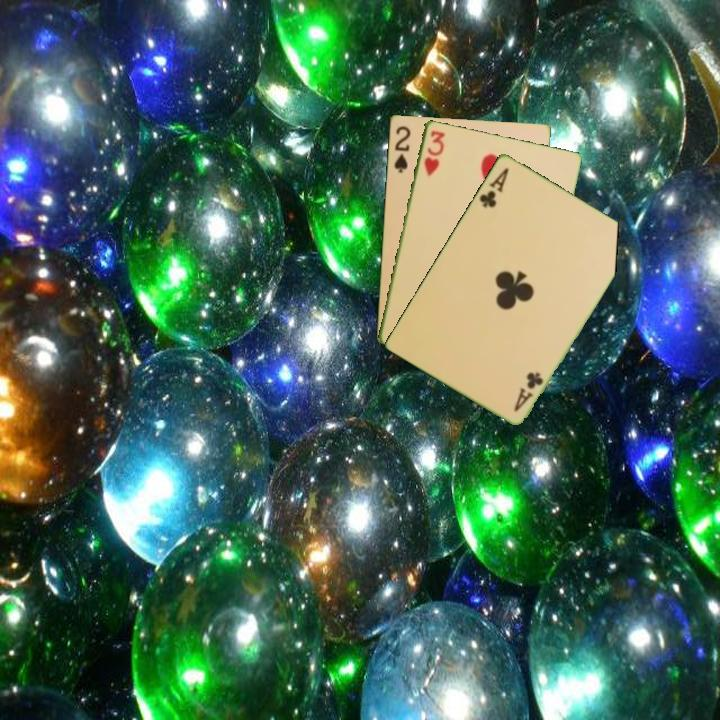2s: (390, 122, 413, 175)
3h: (420, 126, 447, 179)
Ac: (475, 163, 511, 210), (510, 368, 546, 414)
